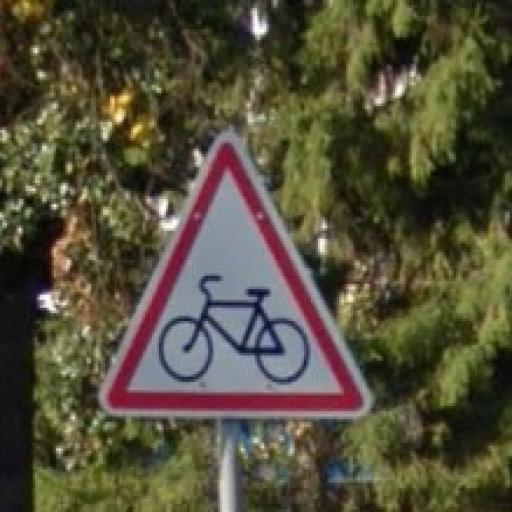traffic_sign: (104, 131, 377, 415)
